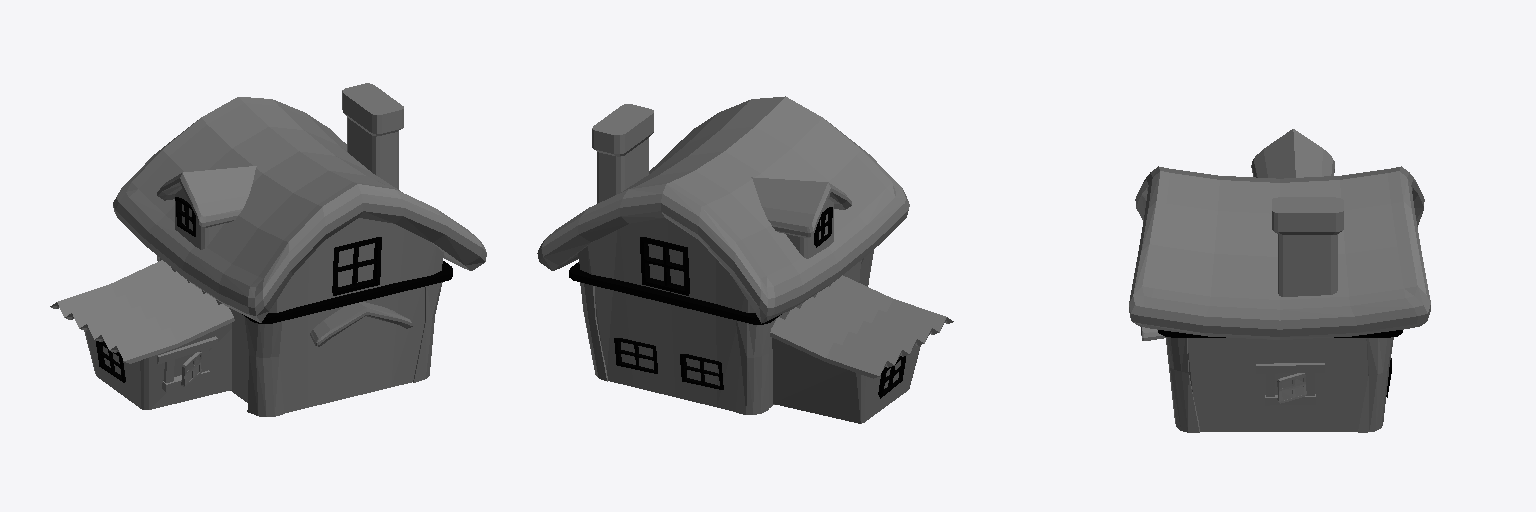
The model's file is MOON_ISLAND_HOUSES.obj.
3 renders of one model, left to right at view 1: azimuth 30°, elevation 25°; view 2: azimuth 150°, elevation 25°; view 3: azimuth 270°, elevation 25°, orthographic.
Visible parts, largest first — view 1: House_geo_House_geo, pCube3_pCube3, pCube5_pCube5; view 2: House_geo_House_geo, pCube8_pCube8, pCube7_pCube7, pCube6_pCube6; view 3: House_geo_House_geo.
Boxes of the visible parts, box(x1,y1,x2,y2) form: House_geo_House_geo: box(50, 83, 486, 416); pCube3_pCube3: box(332, 237, 381, 295); pCube5_pCube5: box(96, 341, 125, 382); House_geo_House_geo: box(537, 96, 953, 423); pCube8_pCube8: box(640, 237, 689, 295); pCube7_pCube7: box(614, 338, 657, 373); pCube6_pCube6: box(680, 354, 723, 389); House_geo_House_geo: box(1129, 129, 1430, 432).
Size of the model in its own units: 11.91 by 8.19 by 9.79.